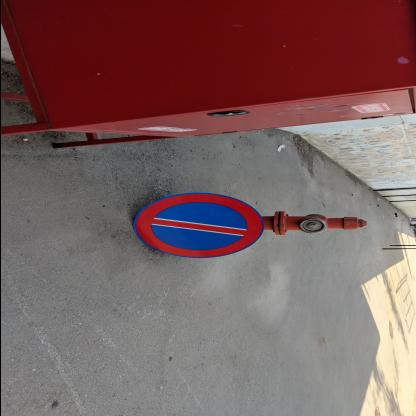No Waiting: (134, 194, 265, 260)
